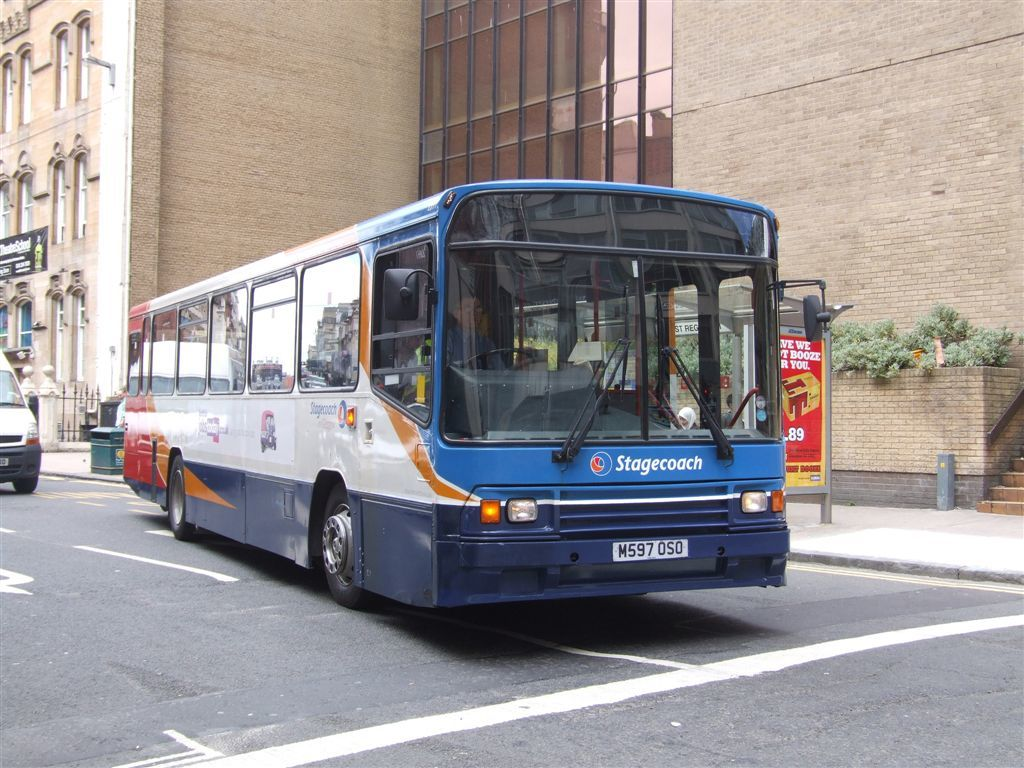Bus: (122, 178, 830, 607)
